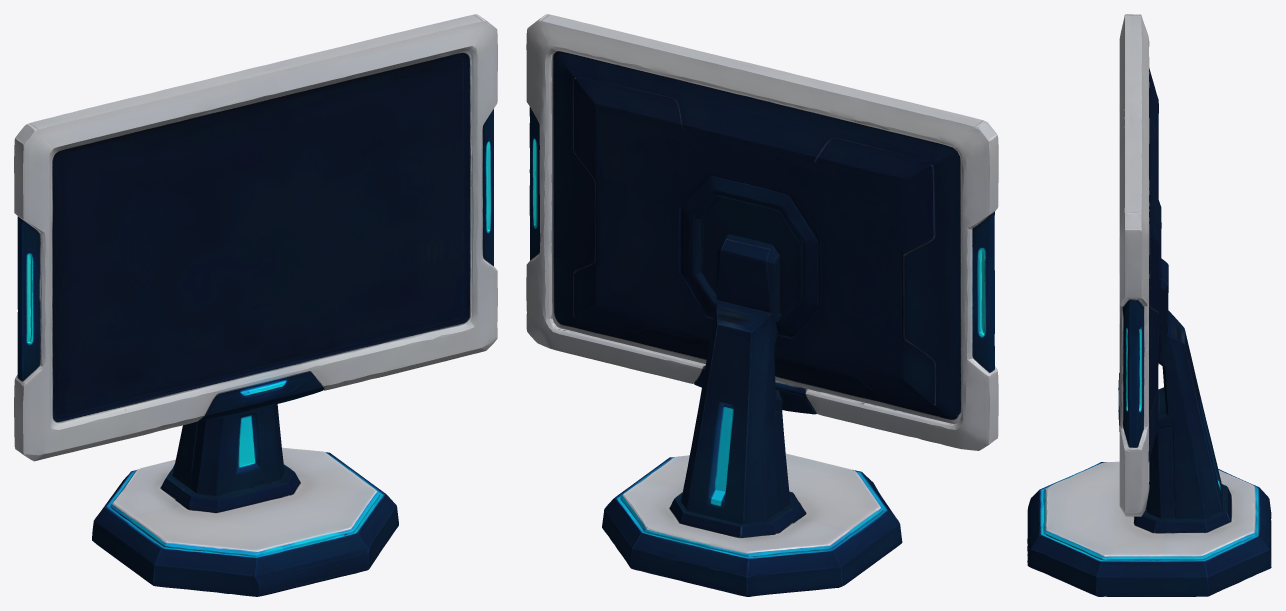
The model's file is monitor.fbx.
3 renders of one model, left to right at view 1: azimuth 30°, elevation 25°; view 2: azimuth 150°, elevation 25°; view 3: azimuth 270°, elevation 25°, orthographic. The views are drawn at different scales.
Visible parts, largest first — view 1: Mesh.005; view 2: Mesh.005; view 3: Mesh.005.
Part boxes in pixels (x1,y1,x2,y2): Mesh.005: (14, 14, 497, 596); Mesh.005: (526, 14, 998, 596); Mesh.005: (1027, 14, 1271, 596).
Bounding box in the file's own units: 116 × 110 × 56.83.
1 material, 1 textured.
